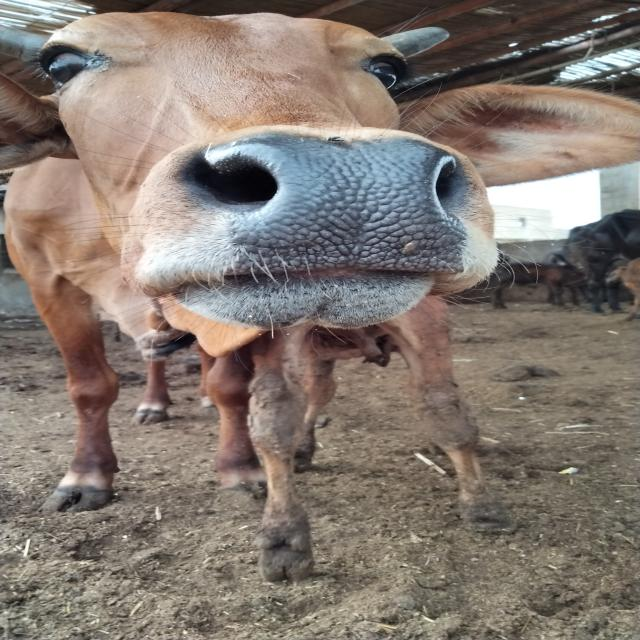muzzles: (150, 129, 504, 282)
